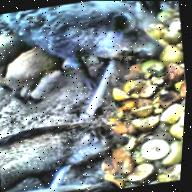boar: (10, 0, 184, 93), (0, 86, 138, 191)
